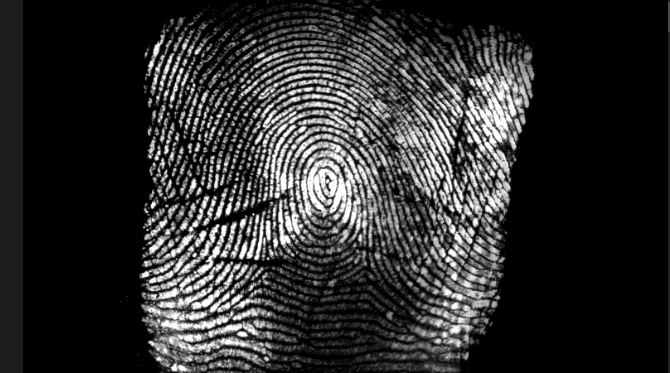nucelo: (307, 165, 339, 206)
verticilo: (353, 248, 381, 278), (253, 246, 278, 274)
